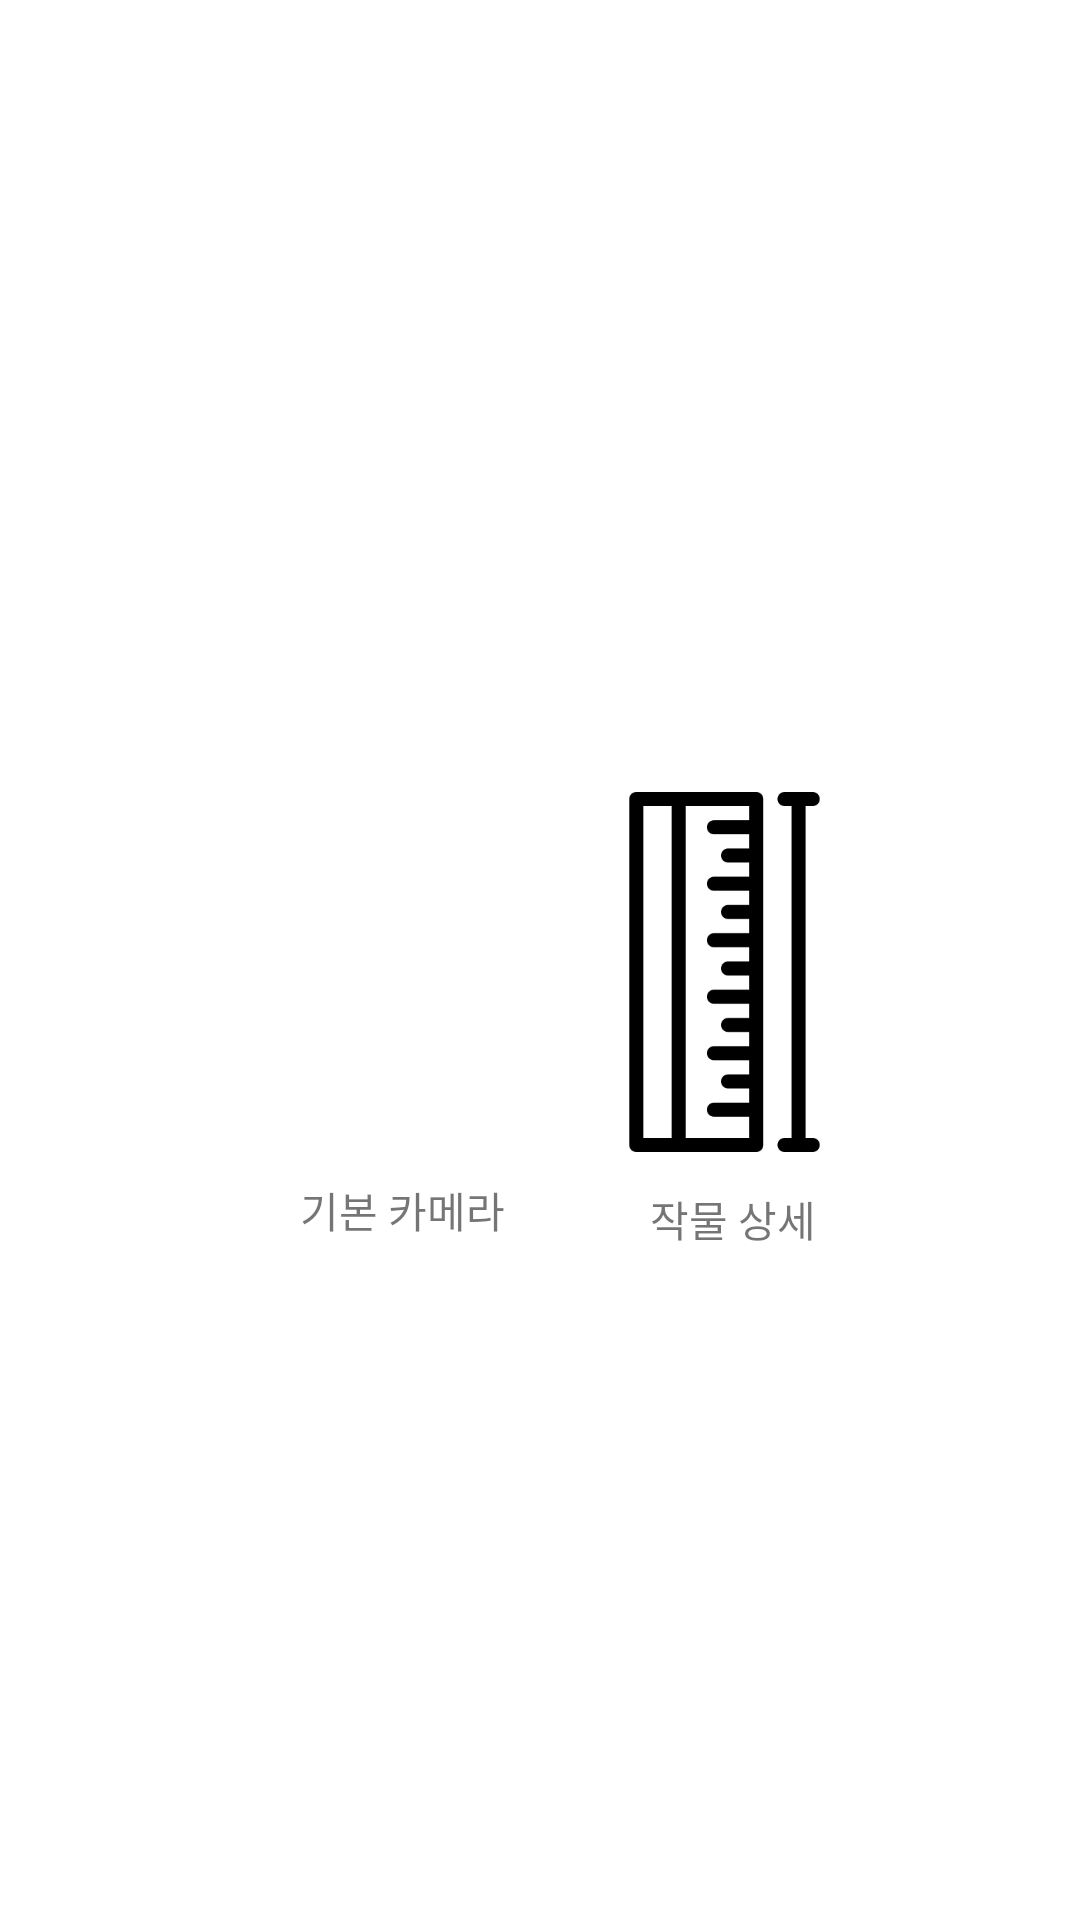

Screen size 1080w x 1920h. Icon name, then its center in pixels as (x=x, y=y):
length: (x=724, y=972)
